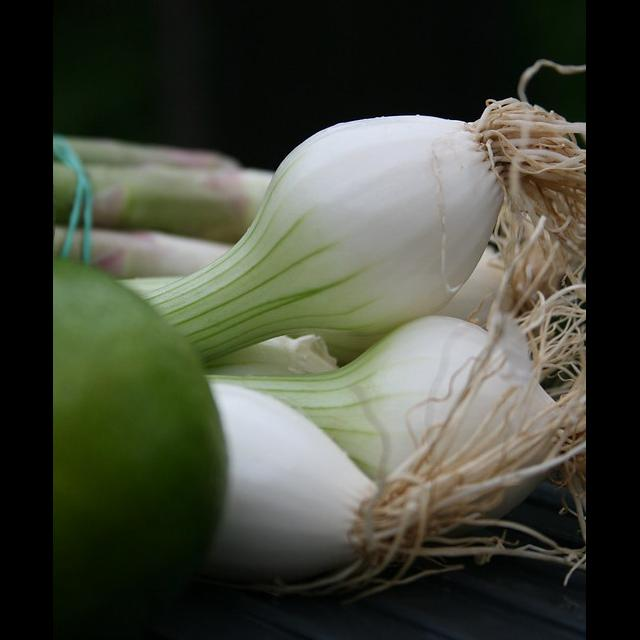green_onion: (146, 98, 586, 362)
